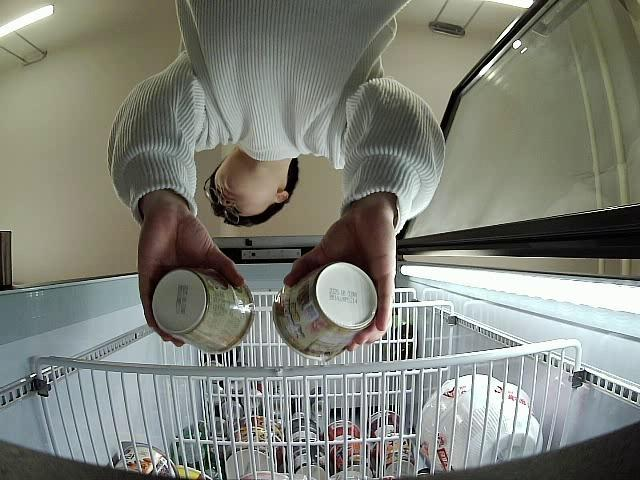04_chapagetti_S: (272, 262, 378, 360), (151, 265, 255, 355)
